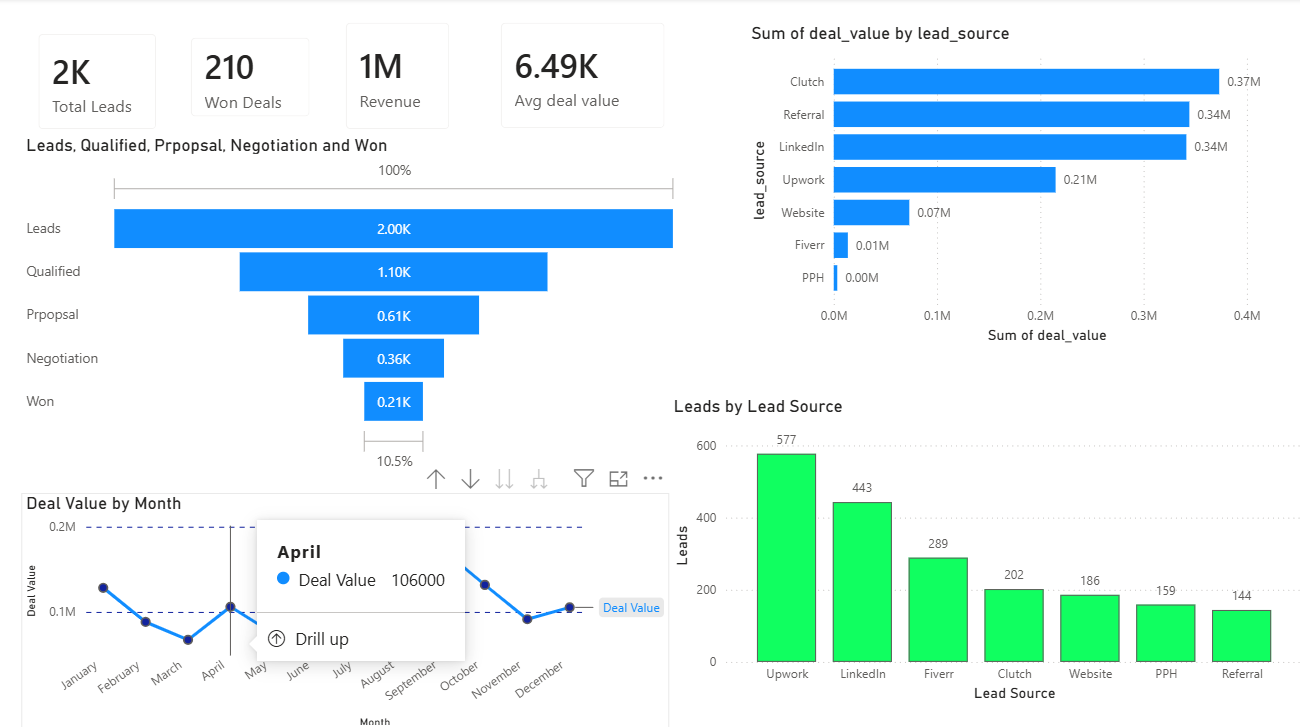

The page's visual inventory and layout, read from the dashboard file:
{"tool":"powerbi","page":{"name":"Page 1","canvas":[1280,720],"ordinal":0},"visuals":[{"type":"cardVisual","fields":{"Data":["Count(leads_clean.lead_id)"]},"box":[20.6,17.8,149.6,127.6],"z":0},{"type":"cardVisual","fields":{"Data":["CountNonNull(leads_clean.deal_value)"]},"box":[170.2,22,150.9,111.1],"z":1000},{"type":"cardVisual","fields":{"Data":["Sum(leads_clean.deal_value)"]},"box":[321.1,6.9,135.8,138.6],"z":2000},{"type":"cardVisual","fields":{"Data":["Avg(leads_clean.deal_value)"]},"box":[473.4,6.9,194.9,137.2],"z":3000},{"type":"funnel","fields":{"Y":["CountNonNull(leads_clean.lead_id)","CountNonNull(leads_clean.qualified_date)","CountNonNull(leads_clean.proposal_date)","CountNonNull(leads_clean.negotiation_date)","CountNonNull(leads_clean.deal_value)"]},"box":[20.6,133.1,647.7,334.8],"z":4000},{"type":"barChart","fields":{"Category":["leads_clean.lead_source"],"Y":["Sum(leads_clean.deal_value)"]},"box":[730,24.7,522.8,318.4],"z":5000},{"type":"columnChart","fields":{"Category":["leads_clean.lead_source"],"Y":["CountNonNull(leads_clean.lead_id)"]},"box":[654.5,388.3,625.7,304.6],"z":6000},{"type":"lineChart","fields":{"Category":["leads_clean.closed_date.Variation.Date Hierarchy.Year","leads_clean.closed_date.Variation.Date Hierarchy.Month"],"Y":["Sum(leads_clean.deal_value)"]},"box":[20.6,484.4,634,236],"z":6001}]}

Visuals, with their boxes in screenshot pixels (x1, y1, x2, y2), scaled from the page's 1280x720 canvas onto the 1300x727 screenshot:
cardVisual - Count(leads_clean.lead_id): [left=21, top=18, right=173, bottom=147]
cardVisual - CountNonNull(leads_clean.deal_value): [left=173, top=22, right=326, bottom=134]
cardVisual - Sum(leads_clean.deal_value): [left=326, top=7, right=464, bottom=147]
cardVisual - Avg(leads_clean.deal_value): [left=481, top=7, right=679, bottom=146]
funnel - CountNonNull(leads_clean.lead_id) x CountNonNull(leads_clean.qualified_date): [left=21, top=134, right=679, bottom=472]
barChart - leads_clean.lead_source x Sum(leads_clean.deal_value): [left=741, top=25, right=1272, bottom=346]
columnChart - leads_clean.lead_source x CountNonNull(leads_clean.lead_id): [left=665, top=392, right=1299, bottom=700]
lineChart - leads_clean.closed_date.Variation.Date Hierarchy.Year x leads_clean.closed_date.Variation.Date Hierarchy.Month: [left=21, top=489, right=665, bottom=726]
